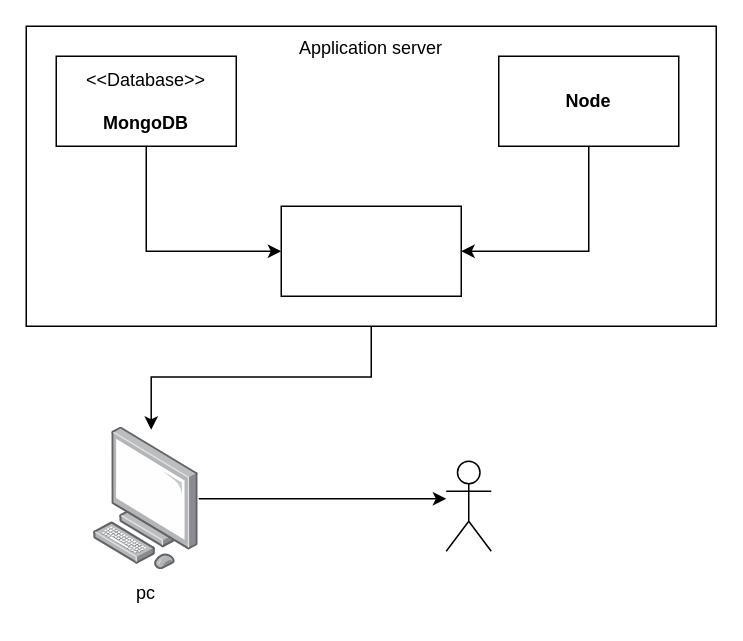
This 743x641 diagram has some shape labels left out. The shapes that lost their labels are listed below. From the top down, each one's centre as x and y in pixels, then its label:
At (x=370, y=250): "App.jsx/Server.js".
At (x=468, y=505): "User".
